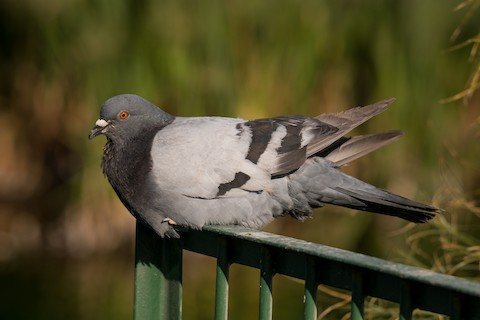pigeon: (88, 88, 448, 244)
